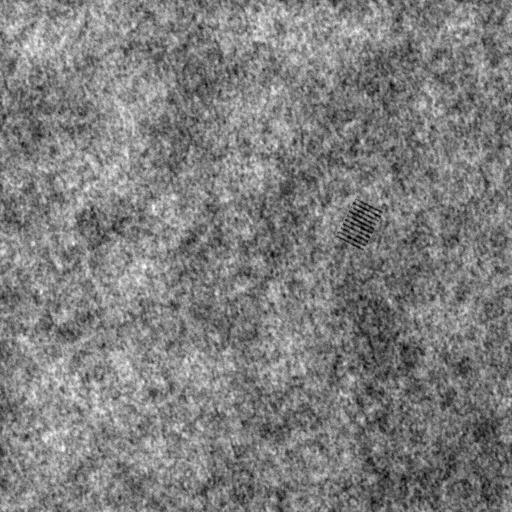DefectTypeB: (339, 194, 384, 251)
